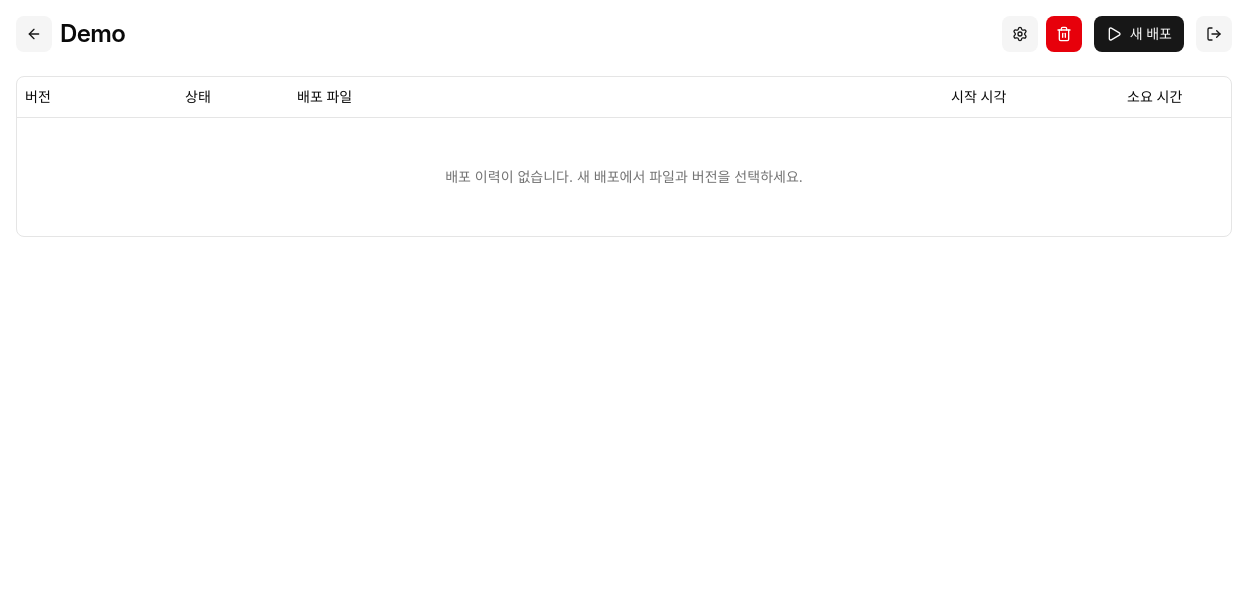
Test: React deployment console › logout clears project and session state
Expected: the heading "Demo" is shown, [60, 16, 125, 52]
Click the button named "로그아웃" at (1214, 34), box [1196, 16, 1232, 52]
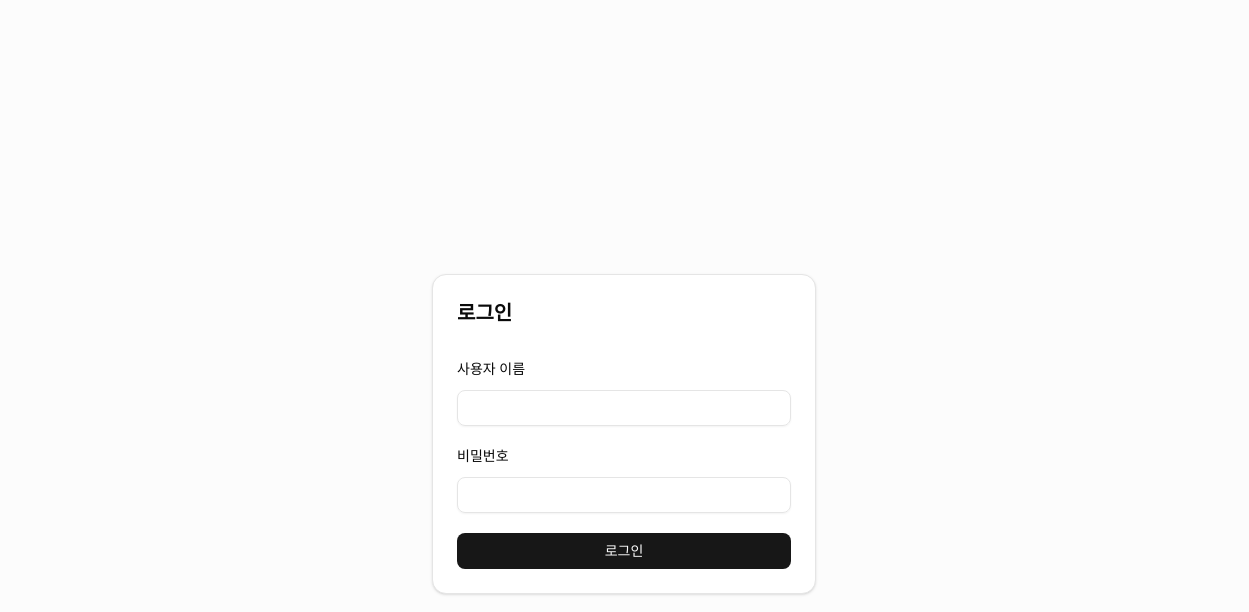
Result: the heading "로그인" is shown at [457, 301, 512, 325]
